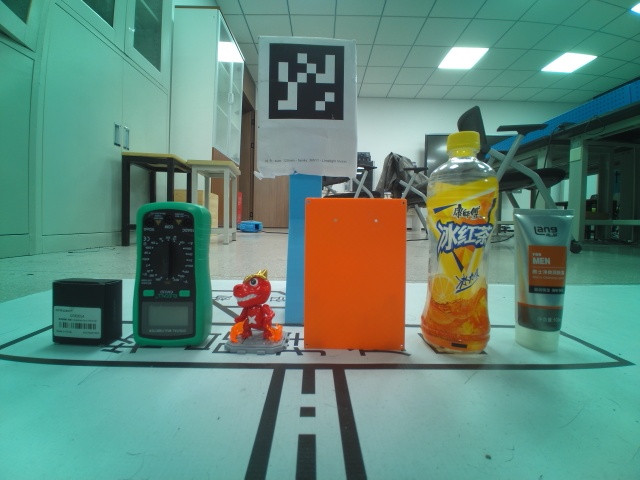banzi: (52, 276, 124, 347)
binghongcha: (223, 270, 288, 353)
dabao: (511, 206, 574, 355)
dianbiao: (420, 130, 497, 360)
hezi: (132, 202, 213, 349)
long: (303, 196, 406, 355)
